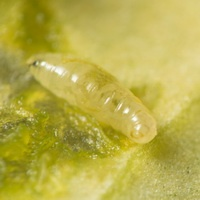insect: (28, 53, 156, 143)
